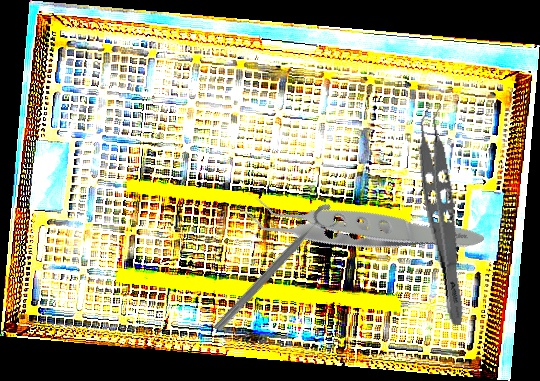Fixation Ring: (210, 200, 344, 342)
Tissue Forceps: (231, 103, 487, 341), (408, 103, 484, 328)
